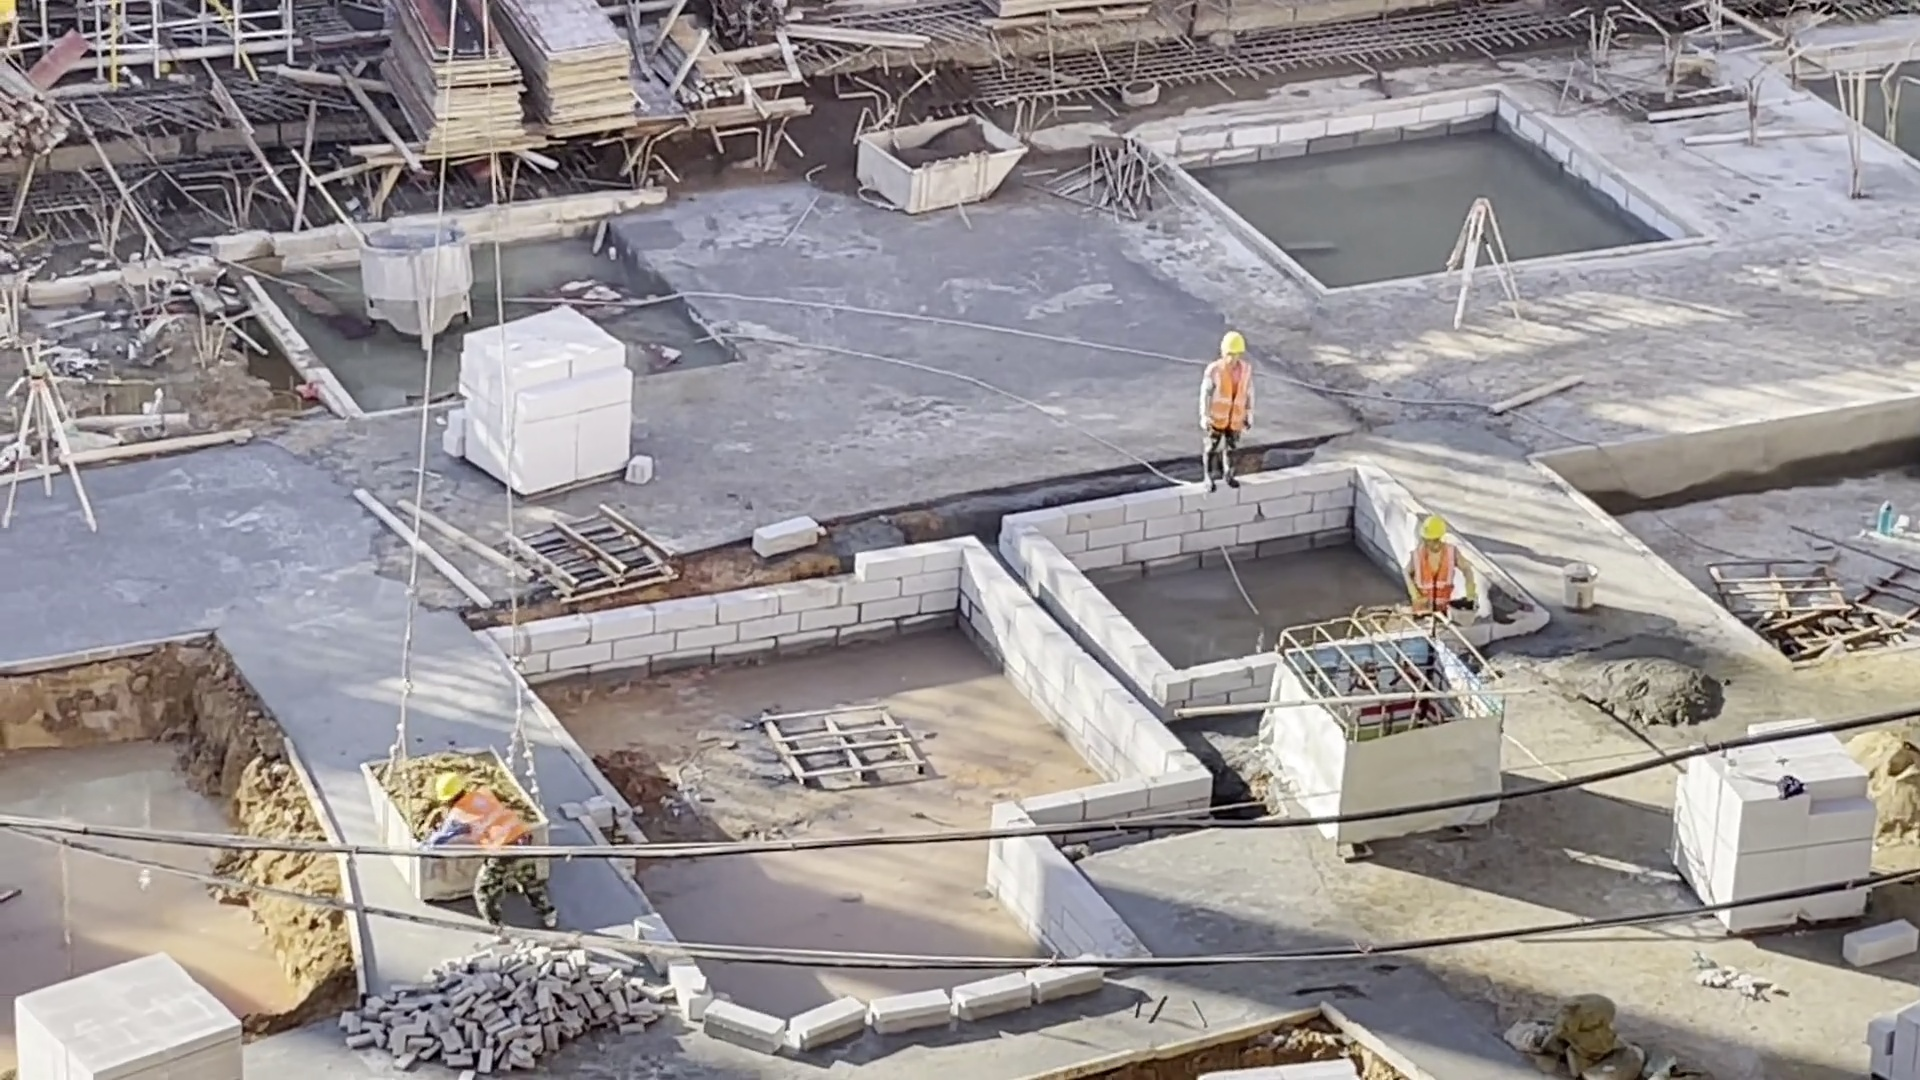board: (374, 2, 526, 158), (501, 5, 644, 148)
brick: (447, 306, 632, 494), (15, 948, 252, 1079), (1676, 746, 1871, 887)
helmet: (431, 771, 467, 802), (1219, 328, 1250, 356), (1415, 514, 1448, 539)
hopper: (847, 106, 1033, 224), (362, 222, 473, 349)
person: (1196, 328, 1259, 494), (410, 769, 533, 845), (1403, 515, 1485, 619)
vest: (453, 787, 525, 841), (1204, 357, 1252, 434), (1408, 542, 1459, 608)
wood: (4, 60, 74, 165)
